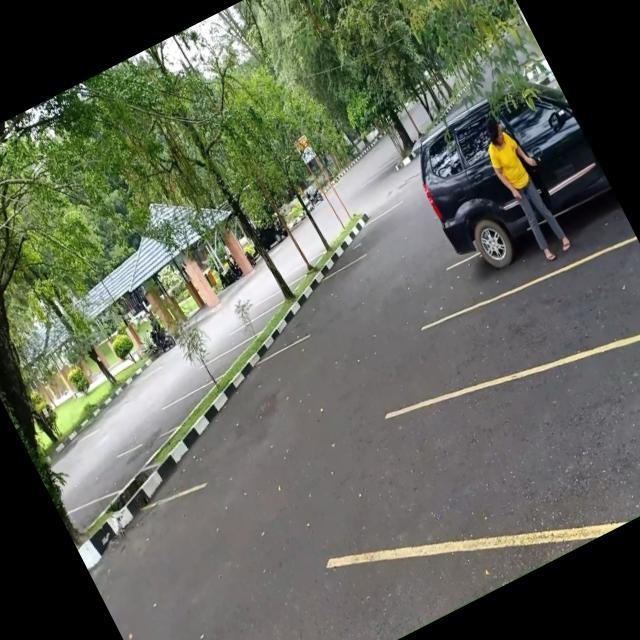empty: (431, 290, 640, 578), (464, 227, 640, 397), (276, 262, 372, 344), (92, 441, 160, 498), (138, 389, 208, 443), (336, 209, 402, 265), (197, 344, 248, 387), (229, 308, 280, 347)
occupied: (426, 125, 636, 313)
